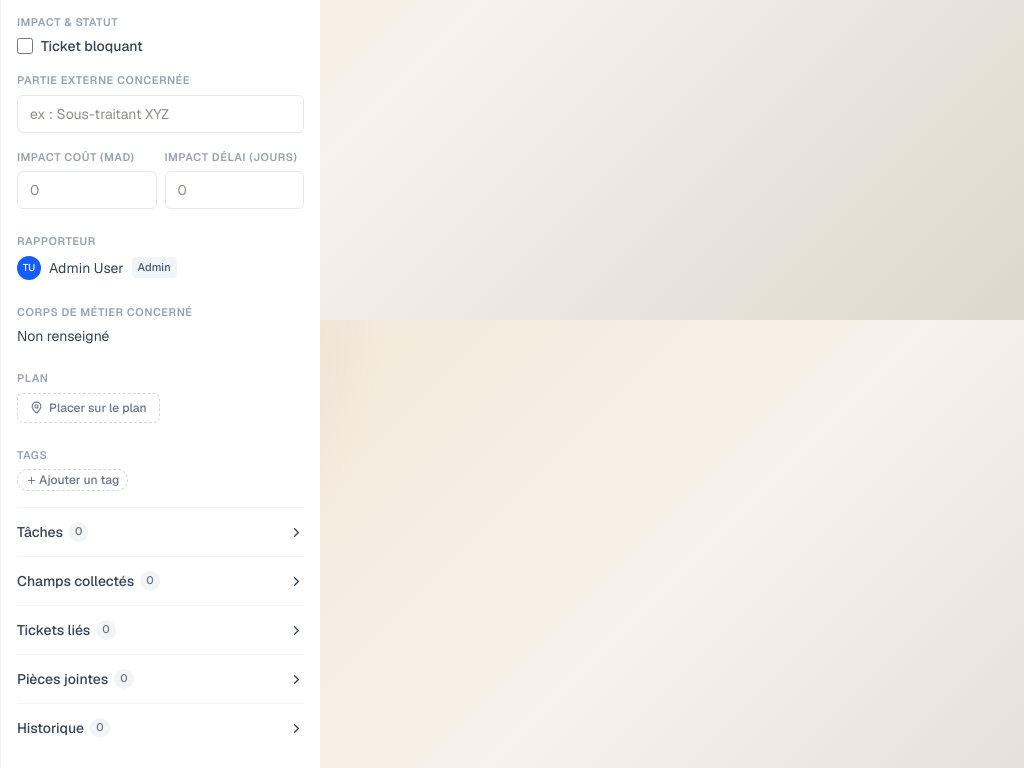
Test: TicketDetailsPanel — history › shows a loading indicator while the detail is loading
(page scrolled)
Step 1. Click the button "Historique 0" → point(51, 728), box [17,718,304,738]
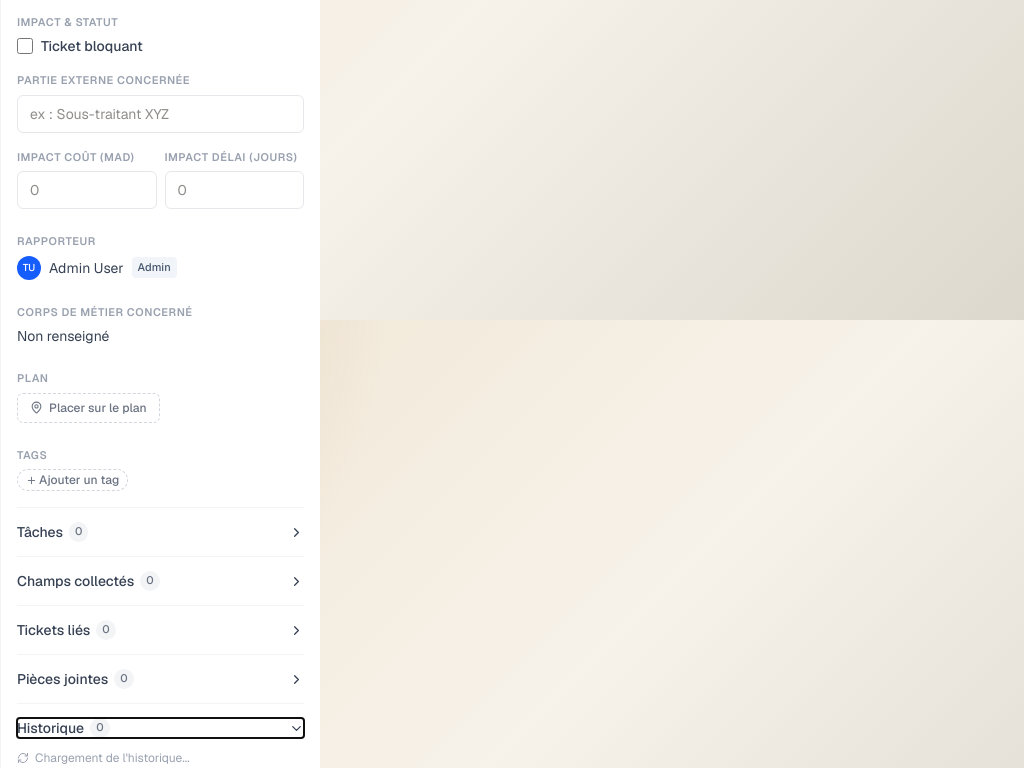
Expected: the text "Chargement de l'historique..." is shown, [17,750,190,766]
